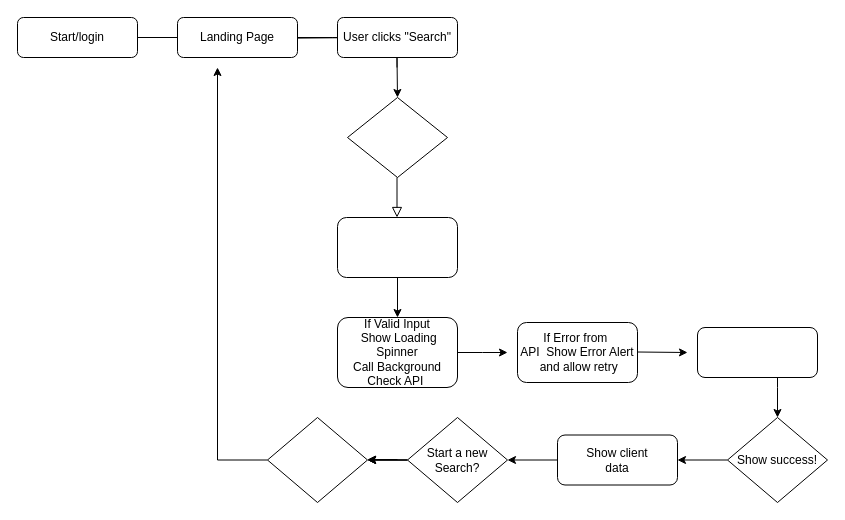
Some shapes in this 845 by 520 pixel diagram are drawn without their labels. The centre of each missing label's shape, as x and y in pixels:
If Invalid Input Show Error Alert Stay on Search Form: pixel 397 247
If no, back to landing page: pixel 317 459
If Successful API Call Display LeadCard Component: pixel 757 352
Validate input?: pixel 397 137
